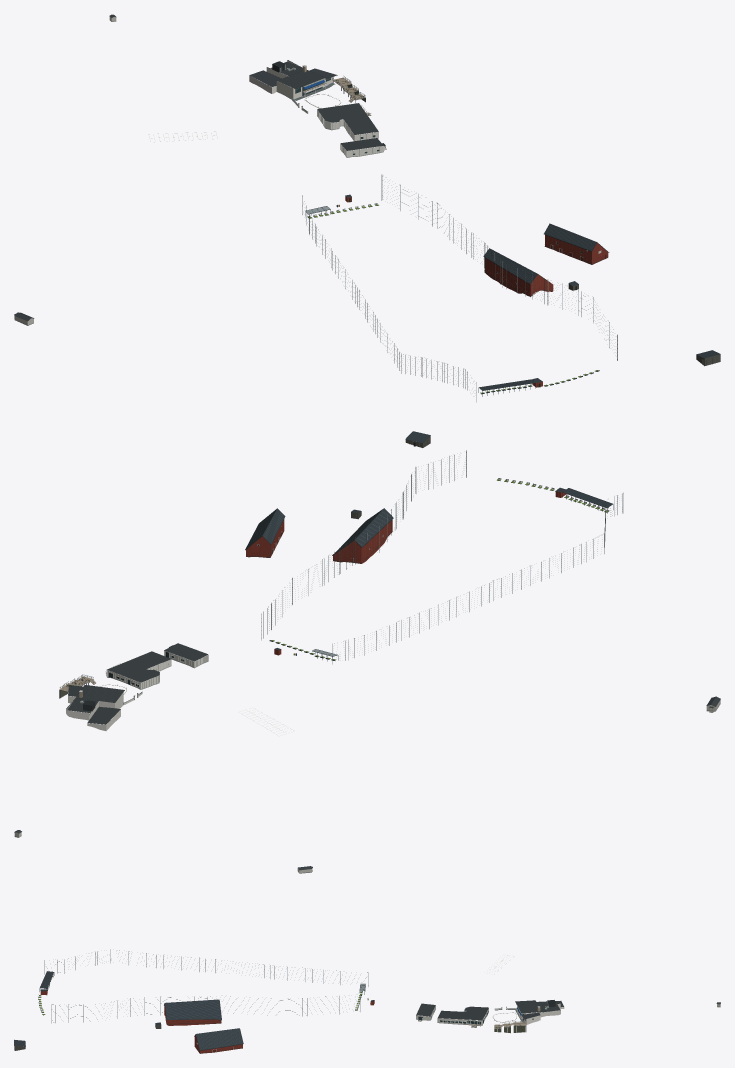
3 renders of one model, top to bottom at view 1: azimuth 30°, elevation 25°; view 2: azimuth 150°, elevation 25°; view 3: azimuth 270°, elevation 25°, orthographic. The views are drawn at different scales.
Visible parts, largest first — view 1: lidingo_clubhouse-restaurant_asset LID MODEL | 343b3e_0.8_0_, lidingo_clubhouse-pavilion_asset LID MODEL | 343b3e_0.8_0_1, lidingo_range-west-barn_asset LID MODEL | 893b2e_0.8_0_1, lidingo_range-east-barn_asset LID MODEL | 893b2e_0.8_0_1, lidingo_clubhouse-restaurant_asset LID MODEL | e6e5dd_0.8_0_; view 2: lidingo_clubhouse-restaurant_asset LID MODEL | 343b3e_0.8_0_, lidingo_clubhouse-pavilion_asset LID MODEL | 343b3e_0.8_0_1, lidingo_range-west-barn_asset LID MODEL | 893b2e_0.8_0_1, lidingo_range-west-barn_asset LID MODEL | 303a40_0.8_0_1, lidingo_clubhouse-restaurant_asset LID MODEL | e6e5dd_0.8_0_; view 3: lidingo_range-west-barn_asset LID MODEL | 303a40_0.8_0_1, lidingo_range-east-barn_asset LID MODEL | 303a40_0.8_0_1, lidingo_clubhouse-restaurant_asset LID MODEL | 343b3e_0.8_0_, lidingo_clubhouse-pavilion_asset LID MODEL | 343b3e_0.8_0_1, lidingo_range-west-barn_asset LID MODEL | 893b2e_0.8_0_1.
Part boxes in pixels (left/top/right/bottom): lidingo_clubhouse-restaurant_asset LID MODEL | 343b3e_0.8_0_: left=250, top=60, right=336, bottom=89; lidingo_clubhouse-pavilion_asset LID MODEL | 343b3e_0.8_0_1: left=317, top=103, right=378, bottom=134; lidingo_range-west-barn_asset LID MODEL | 893b2e_0.8_0_1: left=485, top=258, right=553, bottom=296; lidingo_range-east-barn_asset LID MODEL | 893b2e_0.8_0_1: left=545, top=235, right=608, bottom=264; lidingo_clubhouse-restaurant_asset LID MODEL | e6e5dd_0.8_0_: left=249, top=60, right=333, bottom=99; lidingo_clubhouse-restaurant_asset LID MODEL | 343b3e_0.8_0_: left=66, top=685, right=124, bottom=724; lidingo_clubhouse-pavilion_asset LID MODEL | 343b3e_0.8_0_1: left=107, top=651, right=170, bottom=682; lidingo_range-west-barn_asset LID MODEL | 893b2e_0.8_0_1: left=333, top=519, right=392, bottom=563; lidingo_range-west-barn_asset LID MODEL | 303a40_0.8_0_1: left=335, top=508, right=391, bottom=553; lidingo_clubhouse-restaurant_asset LID MODEL | e6e5dd_0.8_0_: left=66, top=692, right=123, bottom=730; lidingo_range-west-barn_asset LID MODEL | 303a40_0.8_0_1: left=165, top=999, right=221, bottom=1019; lidingo_range-east-barn_asset LID MODEL | 303a40_0.8_0_1: left=196, top=1028, right=242, bottom=1049; lidingo_clubhouse-restaurant_asset LID MODEL | 343b3e_0.8_0_: left=515, top=1000, right=563, bottom=1019; lidingo_clubhouse-pavilion_asset LID MODEL | 343b3e_0.8_0_1: left=438, top=1006, right=488, bottom=1020; lidingo_range-west-barn_asset LID MODEL | 893b2e_0.8_0_1: left=164, top=1004, right=221, bottom=1025.
Bounding box in the file's own units: 308 × 22.87 × 512.
